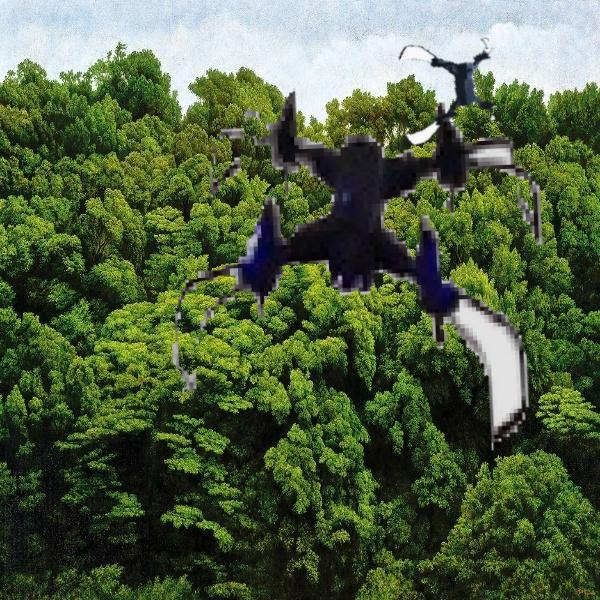drone: (148, 61, 562, 475), (394, 34, 508, 148)
